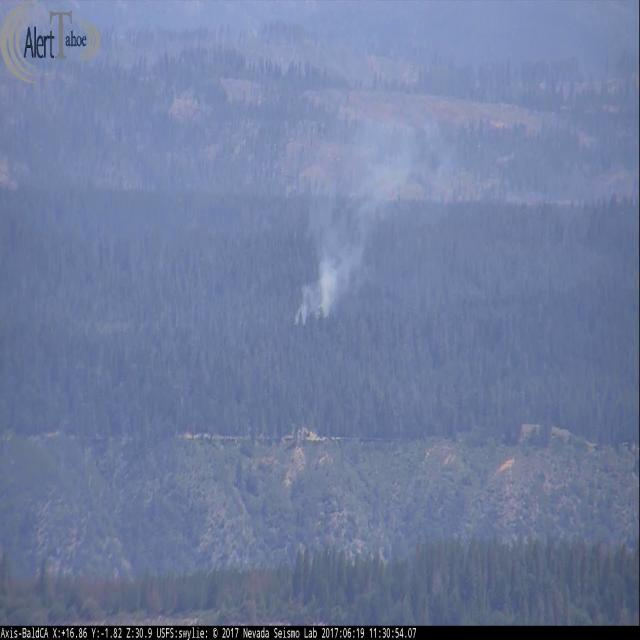smoke: (281, 72, 448, 338)
